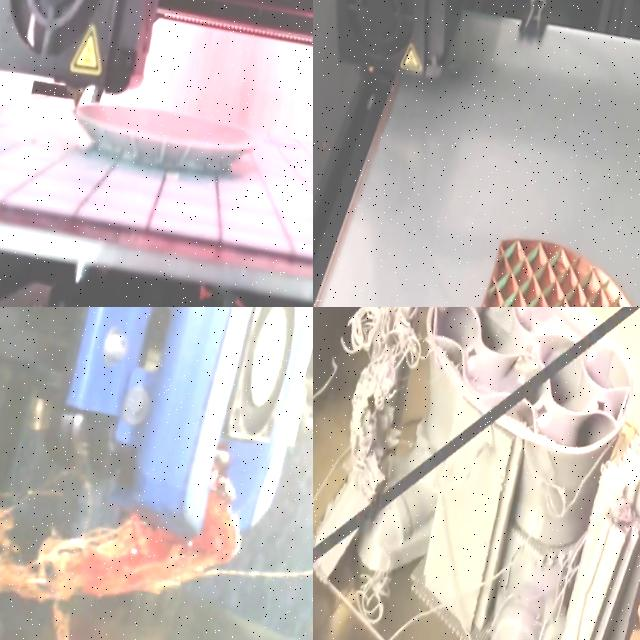spaghetti: (0, 446, 240, 640), (439, 392, 598, 640), (0, 476, 239, 602), (313, 307, 428, 518), (342, 550, 396, 632)
